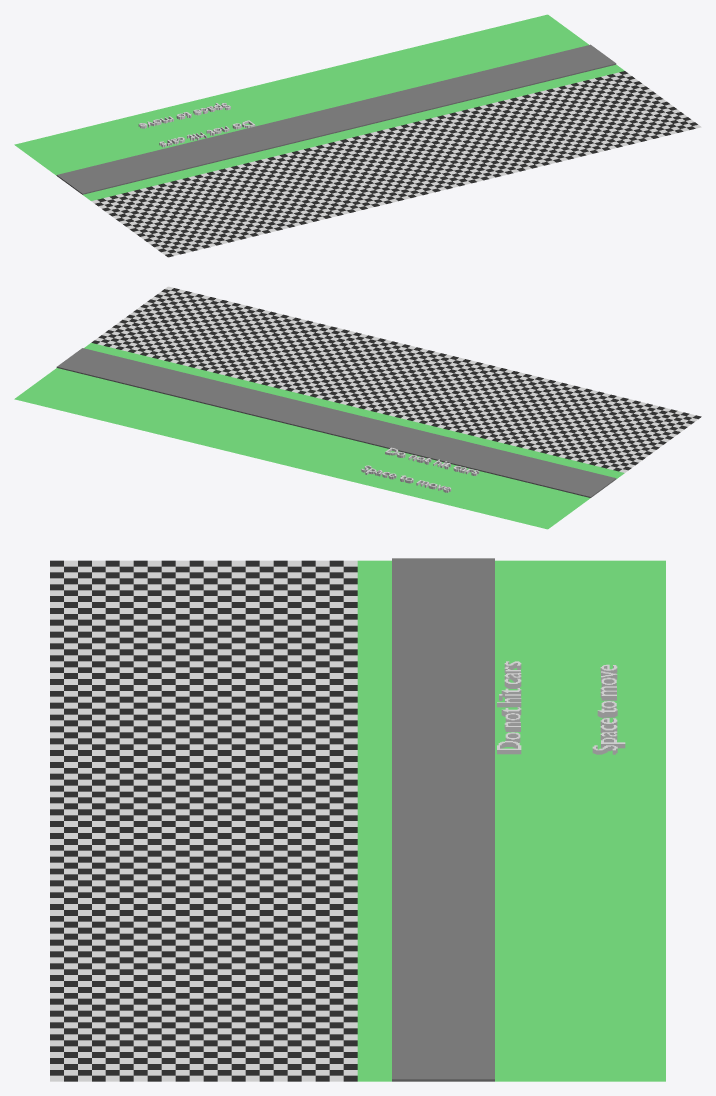
File: Map0.fbx
The picture shows the model from 3 angles, top to bottom: view 1: azimuth 30°, elevation 25°; view 2: azimuth 150°, elevation 25°; view 3: azimuth 270°, elevation 25°; orthographic projection. The views are drawn at different scales.
Parts seen in each view (by area): view 1: Intro; view 2: Intro; view 3: Intro.
Boxes of the visible parts, x1=… form: Intro: x1=14, y1=14, x2=701, y2=257; Intro: x1=14, y1=286, x2=701, y2=529; Intro: x1=50, y1=558, x2=665, y2=1081.
Size of the model in its own units: 2400 by 12.77 by 1199.
